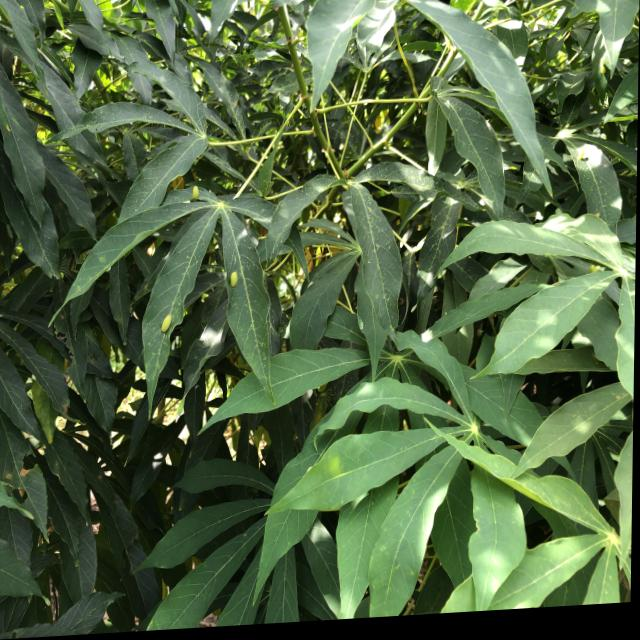Mosca: (223, 266, 248, 291), (148, 310, 170, 338), (189, 180, 205, 216), (574, 150, 595, 165)
